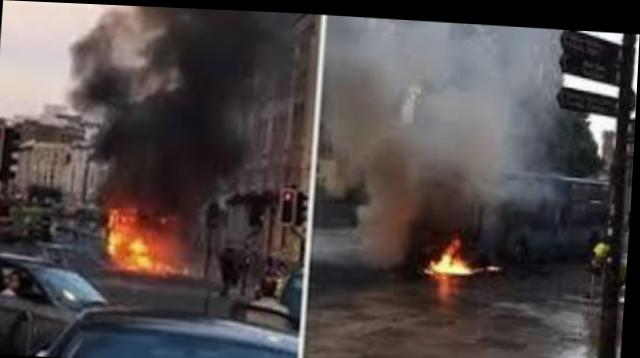fire: (87, 188, 200, 276), (412, 216, 511, 280)
